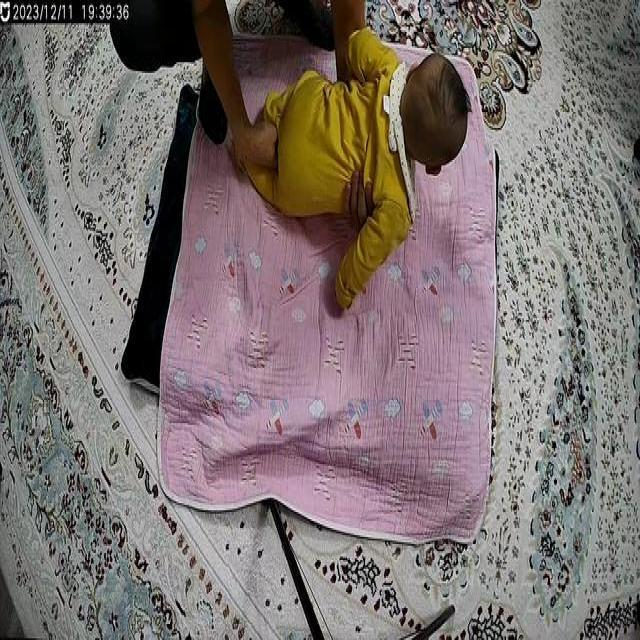baby: (214, 20, 478, 319)
